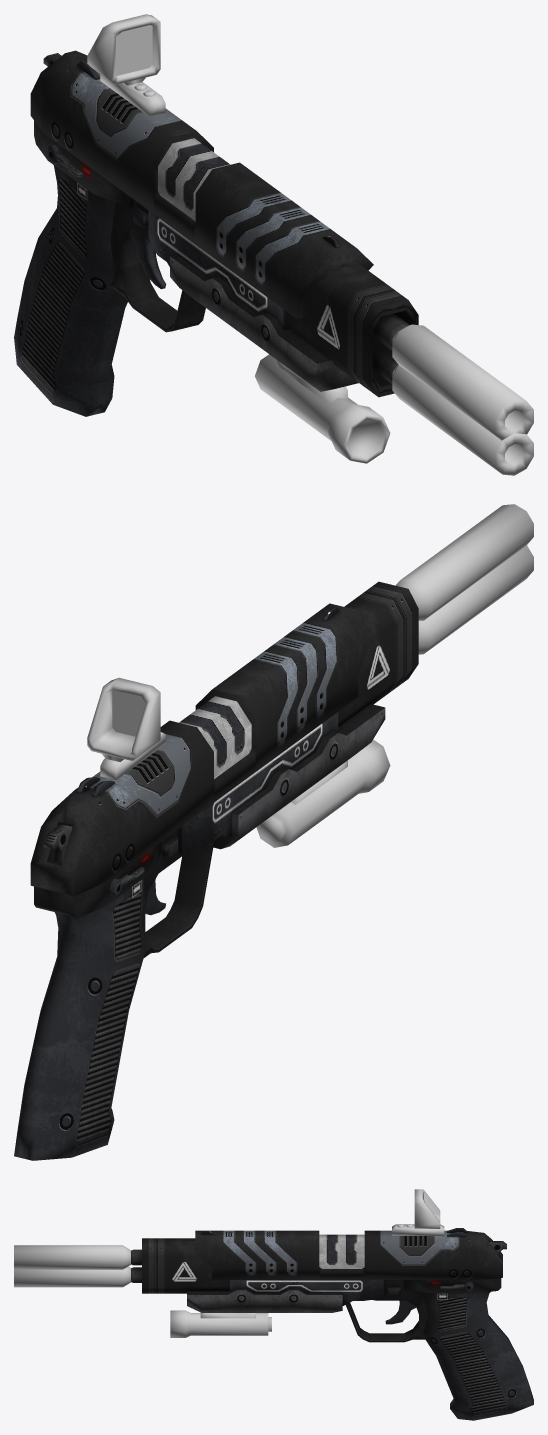
File: Postal.fbx
The picture shows the model from 3 angles, top to bottom: view 1: azimuth 30°, elevation 25°; view 2: azimuth 150°, elevation 25°; view 3: azimuth 270°, elevation 25°; orthographic projection. The views are drawn at different scales.
Visible parts, largest first — view 1: Pistol4Static, ScifiPistolSilencer, ScifiPistolFlashlight, ScifiPistolSilencer1, ScifiPistolReflexSight, ScifiPistolReflexAim; view 2: Pistol4Static, ScifiPistolSilencer, ScifiPistolFlashlight, ScifiPistolReflexSight, ScifiPistolSilencer1, ScifiPistolReflexAim; view 3: Pistol4Static, ScifiPistolSilencer, ScifiPistolFlashlight, ScifiPistolSilencer1, ScifiPistolReflexSight.
Part boxes in pixels (box(x1,y1,x2,y2)): Pistol4Static: box(14, 50, 418, 416); ScifiPistolSilencer: box(392, 324, 533, 440); ScifiPistolFlashlight: box(255, 354, 390, 463); ScifiPistolSilencer1: box(392, 364, 533, 475); ScifiPistolReflexSight: box(87, 14, 165, 116); ScifiPistolReflexAim: box(116, 25, 152, 75); Pistol4Static: box(14, 581, 418, 1160); ScifiPistolSilencer: box(396, 504, 533, 620); ScifiPistolFlashlight: box(256, 739, 390, 847); ScifiPistolReflexSight: box(87, 677, 165, 779); ScifiPistolSilencer1: box(418, 545, 533, 654); ScifiPistolReflexAim: box(112, 690, 145, 736); Pistol4Static: box(131, 1228, 533, 1420); ScifiPistolSilencer: box(14, 1245, 130, 1269); ScifiPistolFlashlight: box(170, 1310, 271, 1337); ScifiPistolSilencer1: box(14, 1266, 130, 1287); ScifiPistolReflexSight: box(392, 1189, 444, 1235).
Bounding box in the file's own units: 2.03 × 11.79 × 24.93.
